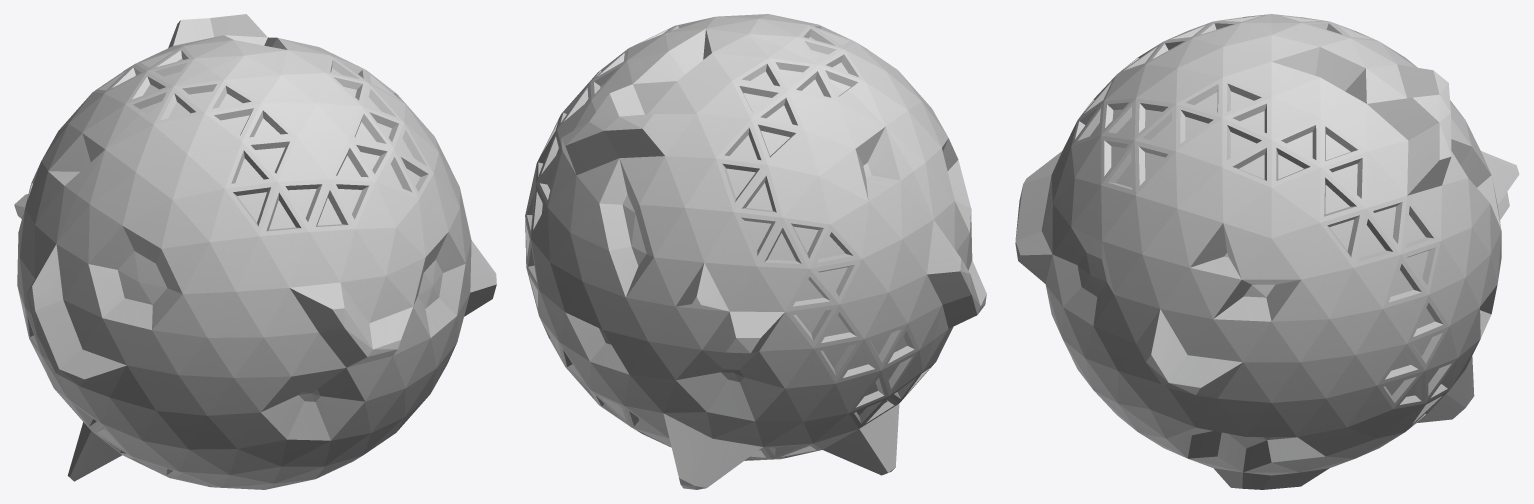
Rendered from Liquid_planet_stage2.FBX.
The picture shows the model from 3 angles, left to right: view 1: azimuth 30°, elevation 25°; view 2: azimuth 150°, elevation 25°; view 3: azimuth 270°, elevation 25°; orthographic projection. The views are drawn at different scales.
Visible parts, largest first — view 1: Progression_Stage_2_Liquid_Metal; view 2: Progression_Stage_2_Liquid_Metal; view 3: Progression_Stage_2_Liquid_Metal.
Part boxes in pixels (box(x1,y1,x2,y2)): Progression_Stage_2_Liquid_Metal: box(14, 14, 496, 489); Progression_Stage_2_Liquid_Metal: box(525, 14, 986, 489); Progression_Stage_2_Liquid_Metal: box(1015, 14, 1519, 489).
Size of the model in its own units: 107 by 102 by 109.
Materials: 1 (1 with a texture image).
